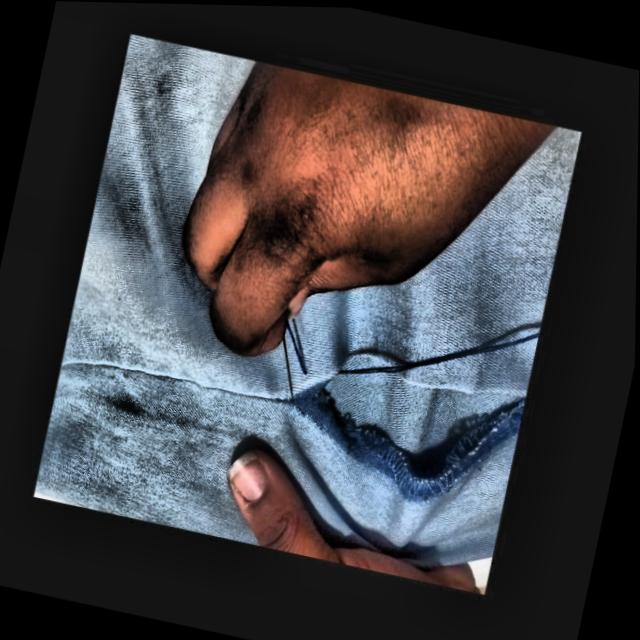seam: (283, 303, 539, 507)
